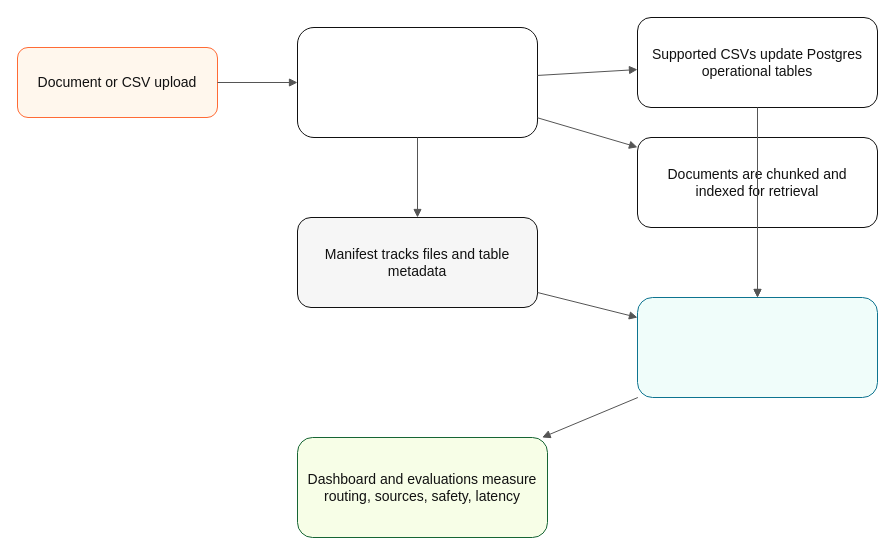
This 895x555 diagram has some shape labels left out. The centre of each missing label's shape, as x and y in pixels:
Chat retrieves facts and evidence from tables, catalog, and chunks: the point at 757,347
Classification and metadata Category, type, access roles: the point at 417,82
